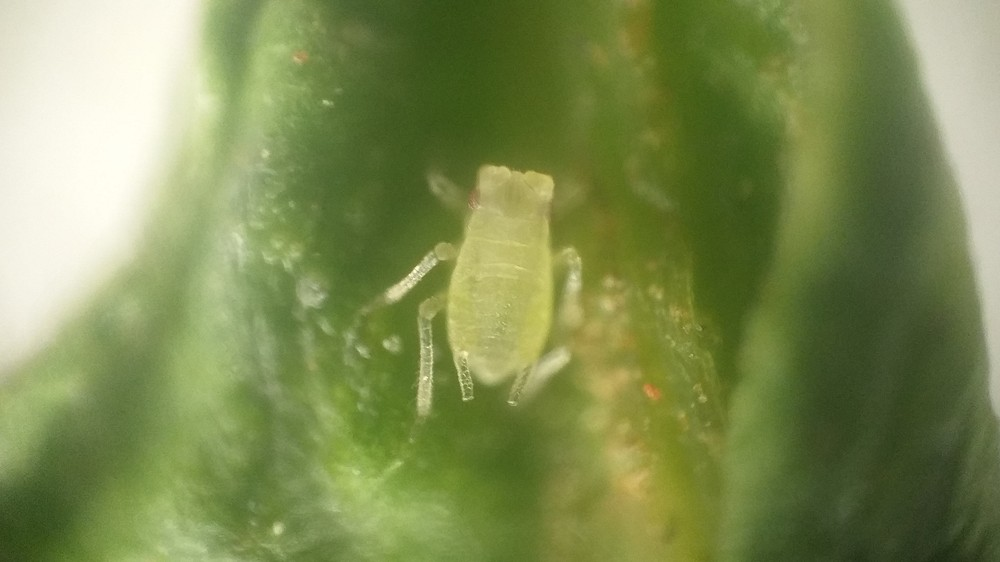Pulgon: (351, 137, 636, 444)
